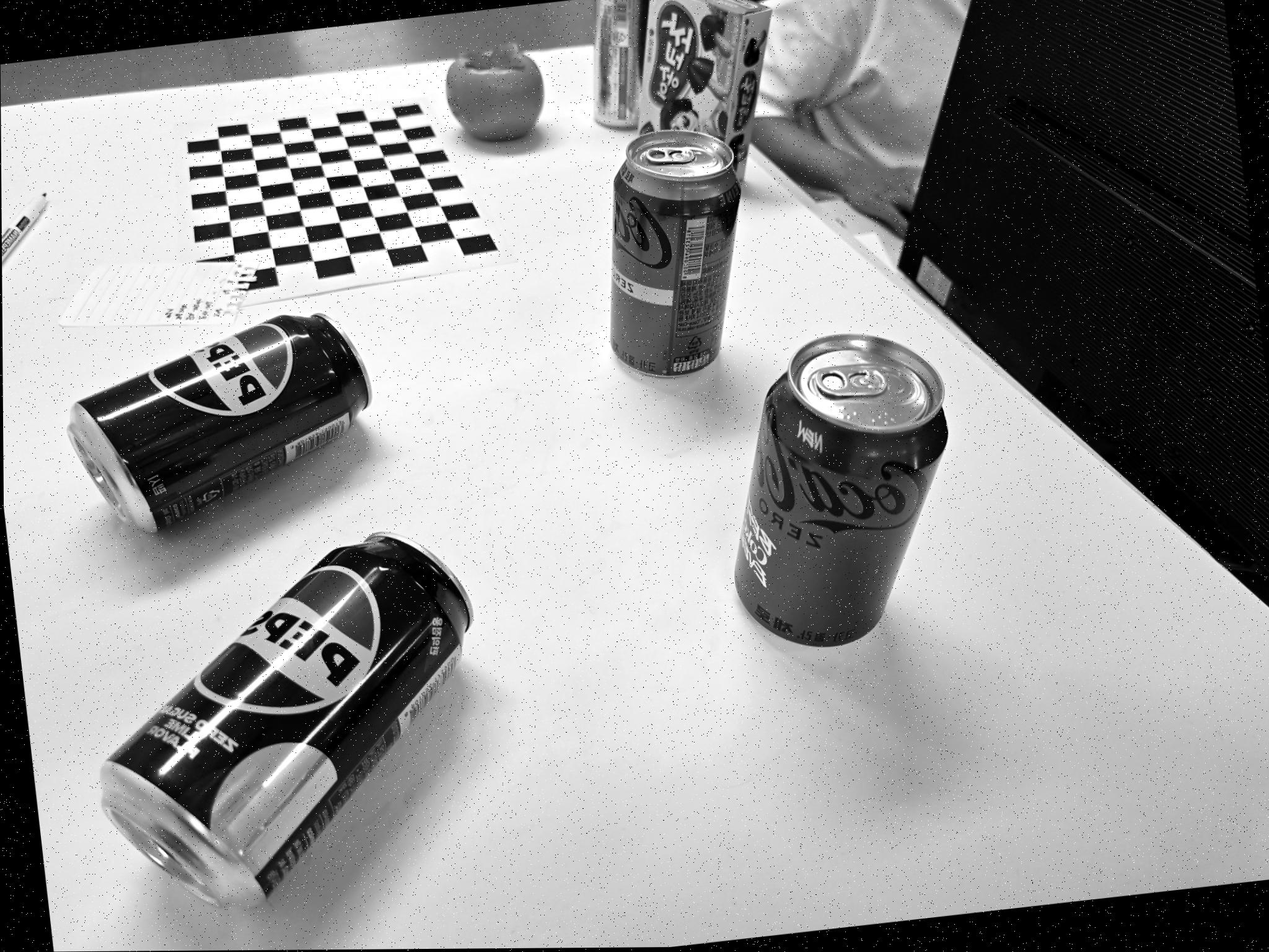can_coke_decaf: (610, 129, 740, 376)
can_coke_zero: (735, 334, 948, 646)
can_pepsi: (69, 314, 371, 532)
can_pepsi_zero: (104, 535, 472, 904)
